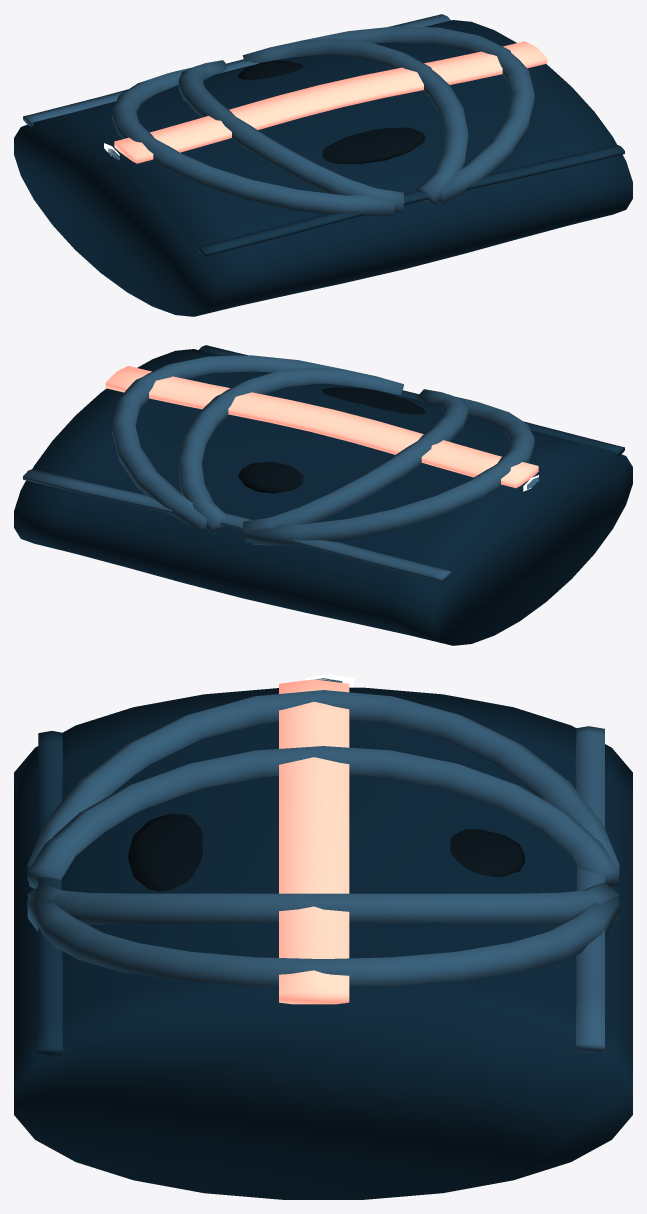
The model's file is newshs-115.glb.
The picture shows the model from 3 angles, top to bottom: view 1: azimuth 30°, elevation 25°; view 2: azimuth 150°, elevation 25°; view 3: azimuth 270°, elevation 25°; orthographic projection. The views are drawn at different scales.
Parts seen in each view (by area): view 1: newshs-115; view 2: newshs-115; view 3: newshs-115.
Boxes of the visible parts, x1,y1,x2,y2 form: newshs-115: [14, 14, 632, 316]; newshs-115: [14, 345, 632, 645]; newshs-115: [14, 674, 632, 1199].
Size of the model in its own units: 2 by 0.6811 by 1.65.
